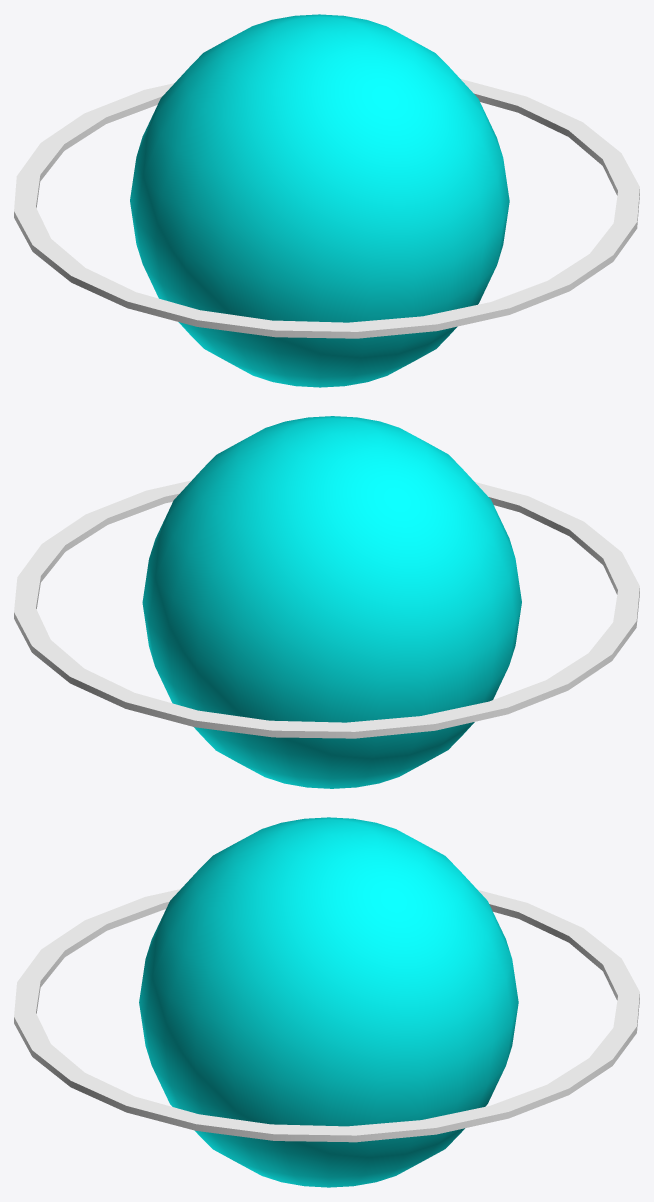
The model's file is Hidrogeno2.fbx.
3 views of the same model, one above another, from view 1: azimuth 30°, elevation 25°; view 2: azimuth 150°, elevation 25°; view 3: azimuth 270°, elevation 25° (orthographic).
Parts seen in each view (by area): view 1: Group1, Group2; view 2: Group1, Group2; view 3: Group1, Group2.
Part boxes in pixels (<box>): Group1: <box>130,14,509,387</box>; Group2: <box>14,79,639,338</box>; Group1: <box>142,416,521,788</box>; Group2: <box>14,480,639,738</box>; Group1: <box>139,817,518,1187</box>; Group2: <box>14,889,639,1142</box>.
Bounding box in the file's own units: 103 × 61.58 × 104.
